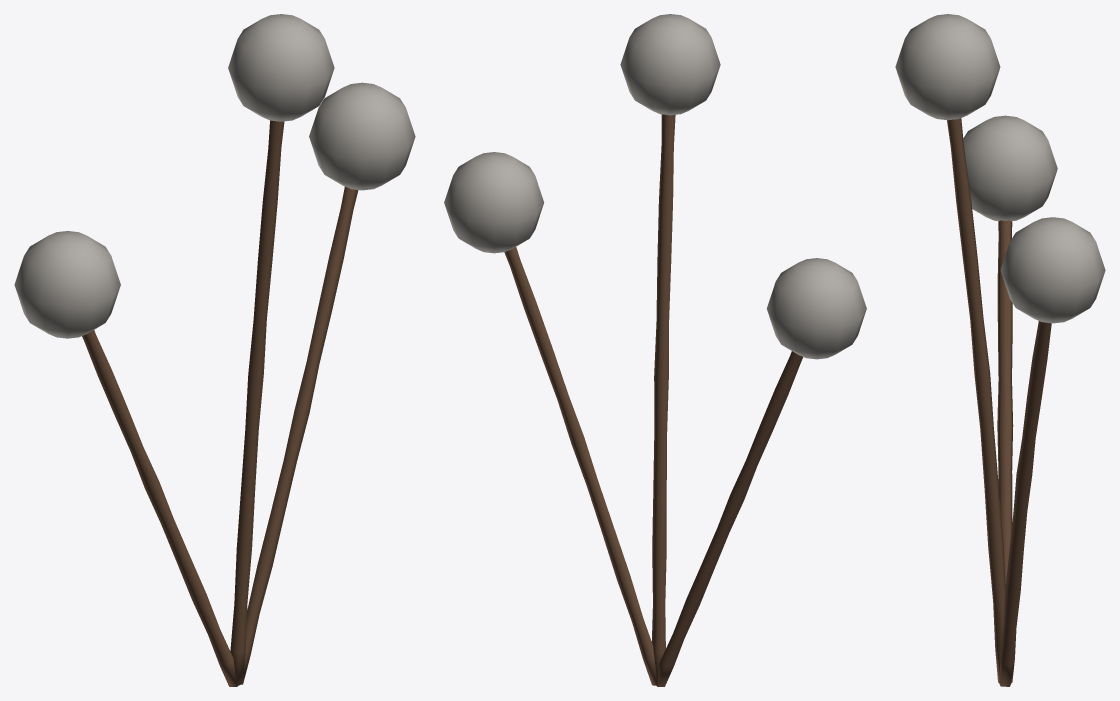
Rendered from bolas.glb.
3 views of the same model, side by side, from view 1: azimuth 30°, elevation 25°; view 2: azimuth 150°, elevation 25°; view 3: azimuth 270°, elevation 25° (orthographic). The views are drawn at different scales.
Visible parts, largest first — view 1: bolas; view 2: bolas; view 3: bolas.
Part boxes in pixels (box(x1,y1,x2,y2)): bolas: box(14, 14, 415, 686); bolas: box(444, 14, 866, 686); bolas: box(895, 14, 1105, 686).
Size of the model in its own units: 0.49 by 0.778 by 0.22.
